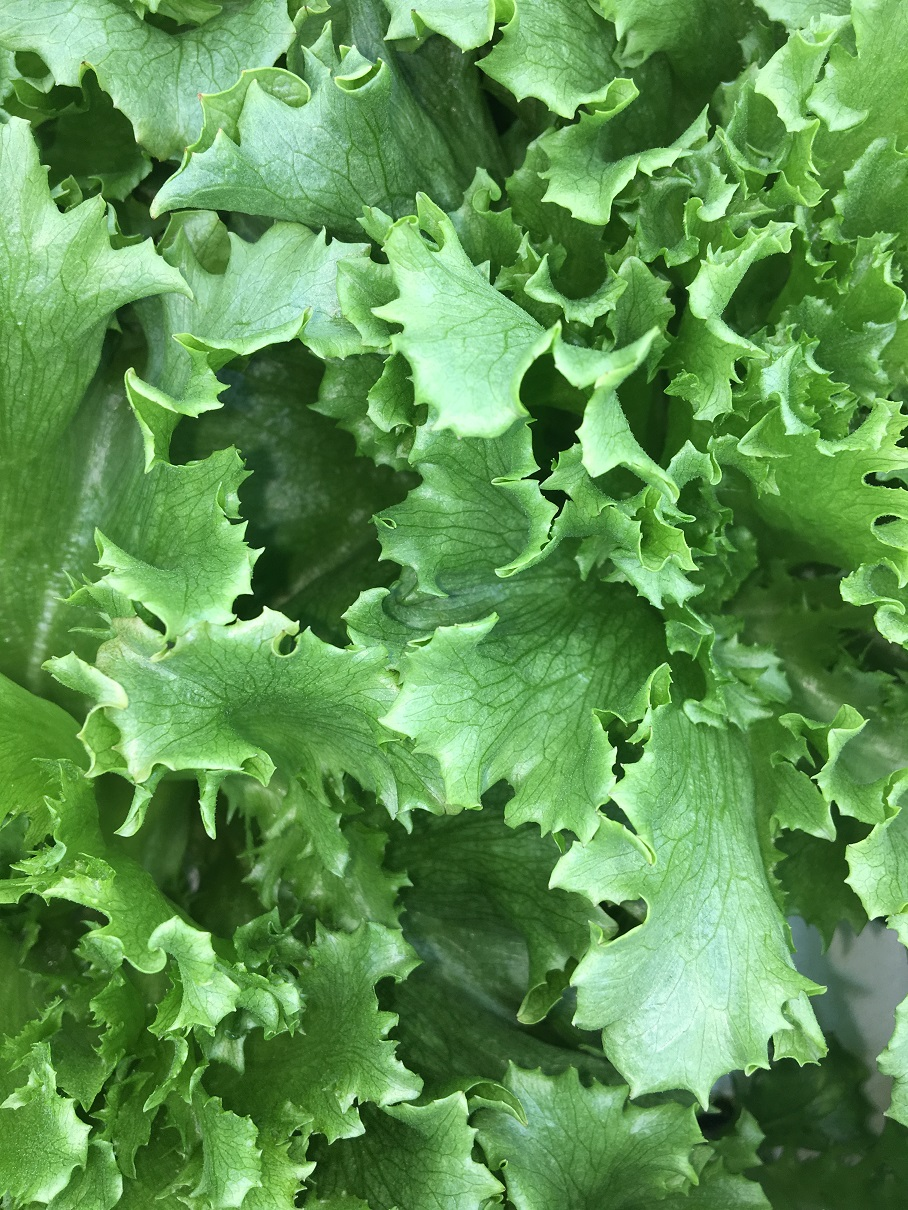tipburn: (86, 606, 148, 664), (284, 291, 336, 332), (63, 42, 107, 83), (182, 76, 221, 114), (273, 617, 306, 646), (639, 718, 669, 745), (397, 206, 424, 234), (638, 846, 664, 874)
